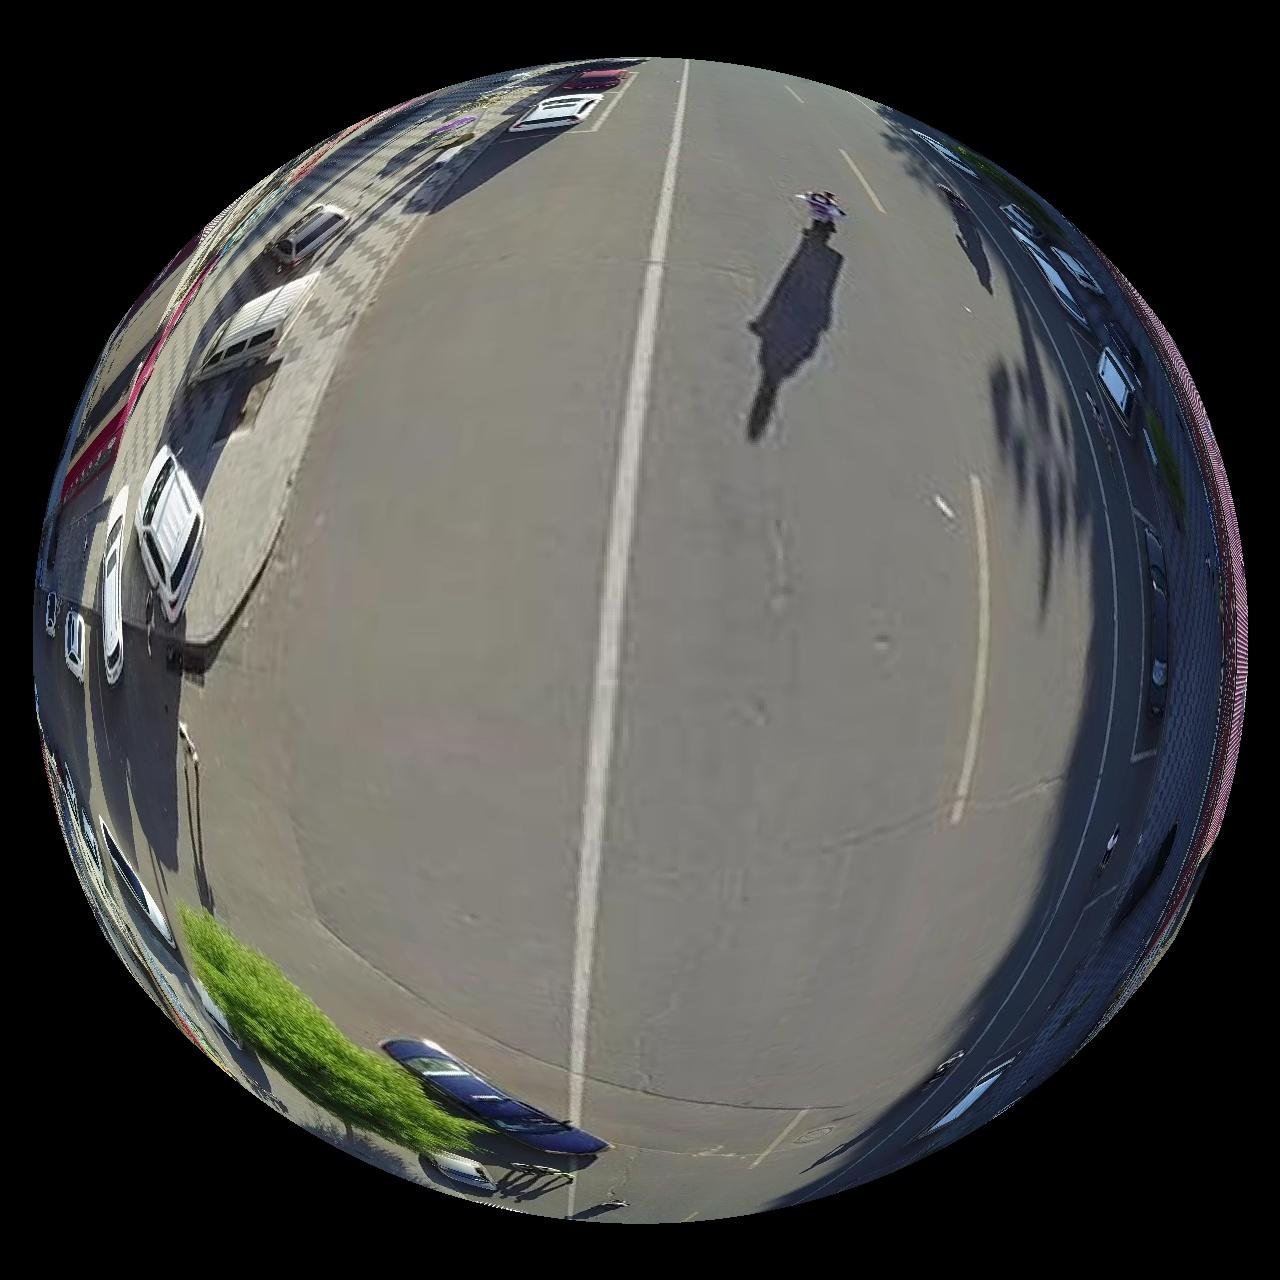cars: (382, 1040, 610, 1157), (189, 272, 318, 382), (134, 445, 203, 622), (266, 200, 350, 270), (98, 486, 125, 686), (509, 91, 604, 130), (421, 1153, 498, 1198), (62, 611, 86, 682)
trees: (181, 907, 484, 1156)
